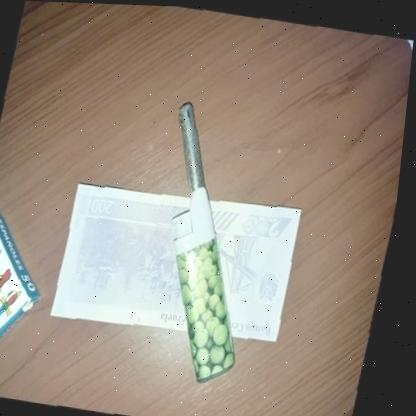vef_back: (52, 171, 314, 350)
